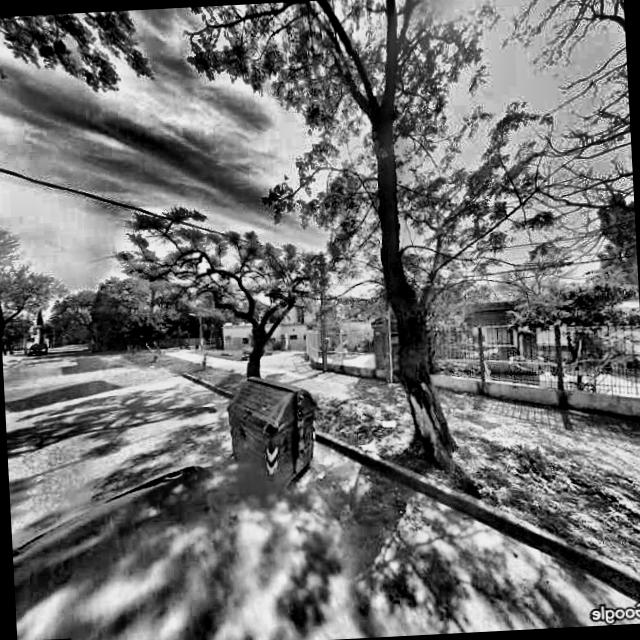Dustbin: (212, 366, 330, 500)
